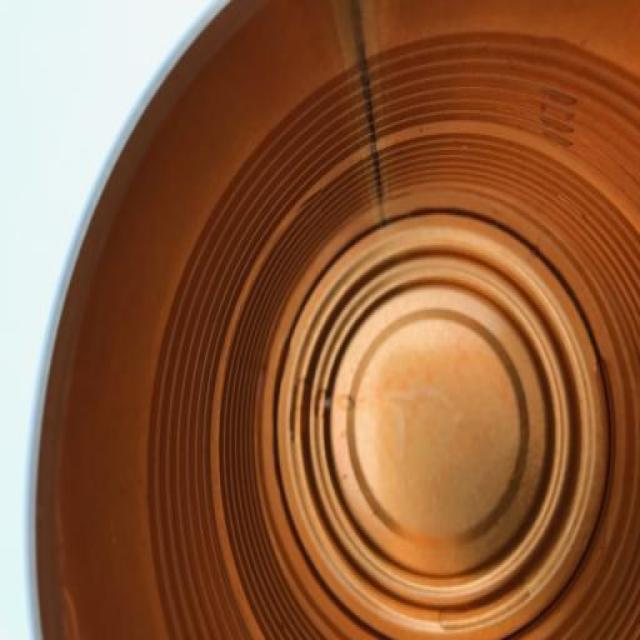metal: (27, 0, 638, 638)
